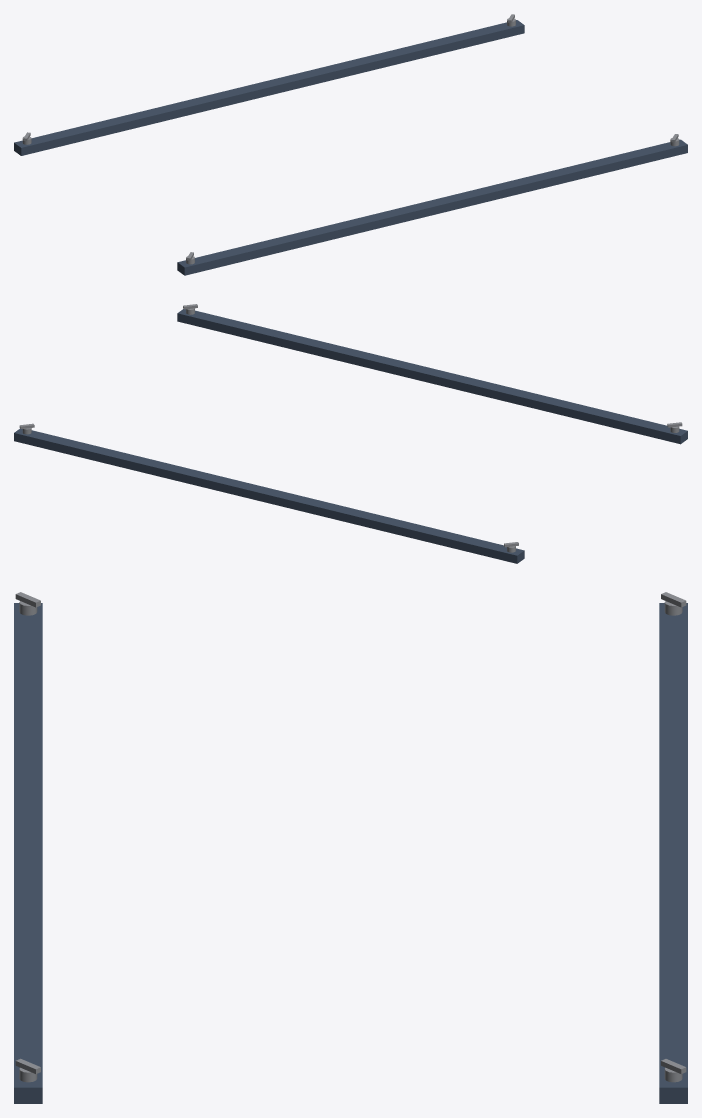
The model's file is ms1_mounts.obj.
The picture shows the model from 3 angles, top to bottom: view 1: azimuth 30°, elevation 25°; view 2: azimuth 150°, elevation 25°; view 3: azimuth 270°, elevation 25°; orthographic projection. The views are drawn at different scales.
Parts seen in each view (by area): view 1: ms1_mounts; view 2: ms1_mounts; view 3: ms1_mounts.
Part boxes in pixels (box(x1,y1,x2,y2)): ms1_mounts: box(14, 14, 687, 275); ms1_mounts: box(14, 304, 687, 563); ms1_mounts: box(14, 592, 687, 1103).
Size of the model in its own units: 6.4 by 0.19 by 3.76.
